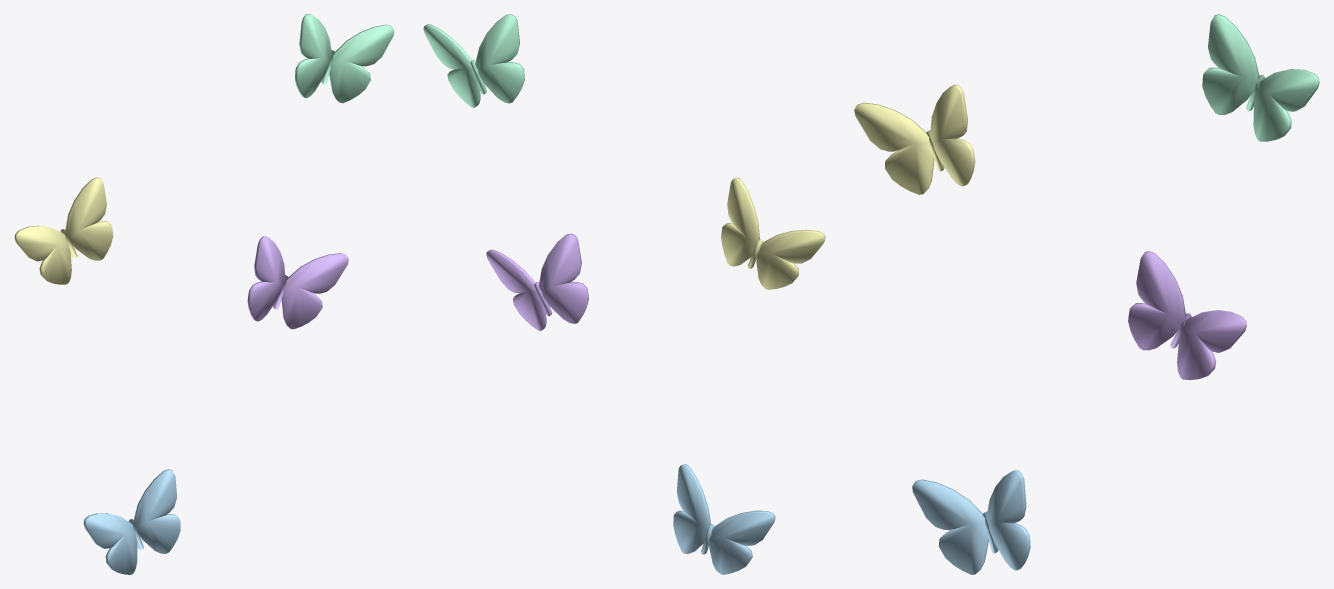
File: SEINÄLLEbutterflies.fbx
3 views of the same model, side by side, from view 1: azimuth 30°, elevation 25°; view 2: azimuth 150°, elevation 25°; view 3: azimuth 330°, elevation 25° (orthographic). The views are drawn at different scales.
Parts seen in each view (by area): view 1: Plane.002, Plane.004, Plane.006, Plane.003; view 2: Plane.003, Plane.006, Plane.004, Plane.002; view 3: Plane.006, Plane.003, Plane.004, Plane.002.
Boxes of the visible parts, x1,y1,x2,y2 form: Plane.002: (247, 236, 348, 329); Plane.004: (295, 14, 394, 103); Plane.006: (14, 177, 113, 284); Plane.003: (83, 469, 180, 574); Plane.003: (673, 464, 775, 574); Plane.006: (721, 177, 825, 289); Plane.004: (423, 14, 524, 107); Plane.002: (486, 233, 588, 330); Plane.006: (854, 84, 975, 194); Plane.003: (912, 470, 1030, 574); Plane.004: (1202, 14, 1319, 141); Plane.002: (1128, 251, 1246, 379).
Bounding box in the file's own units: 1.83 × 2.3 × 0.1981.
